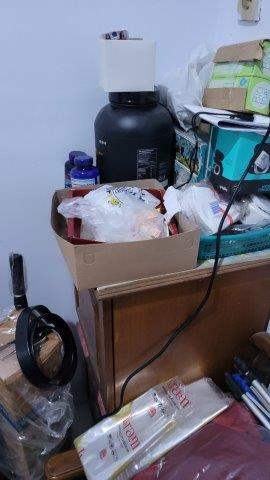plastik: (54, 184, 168, 245)
